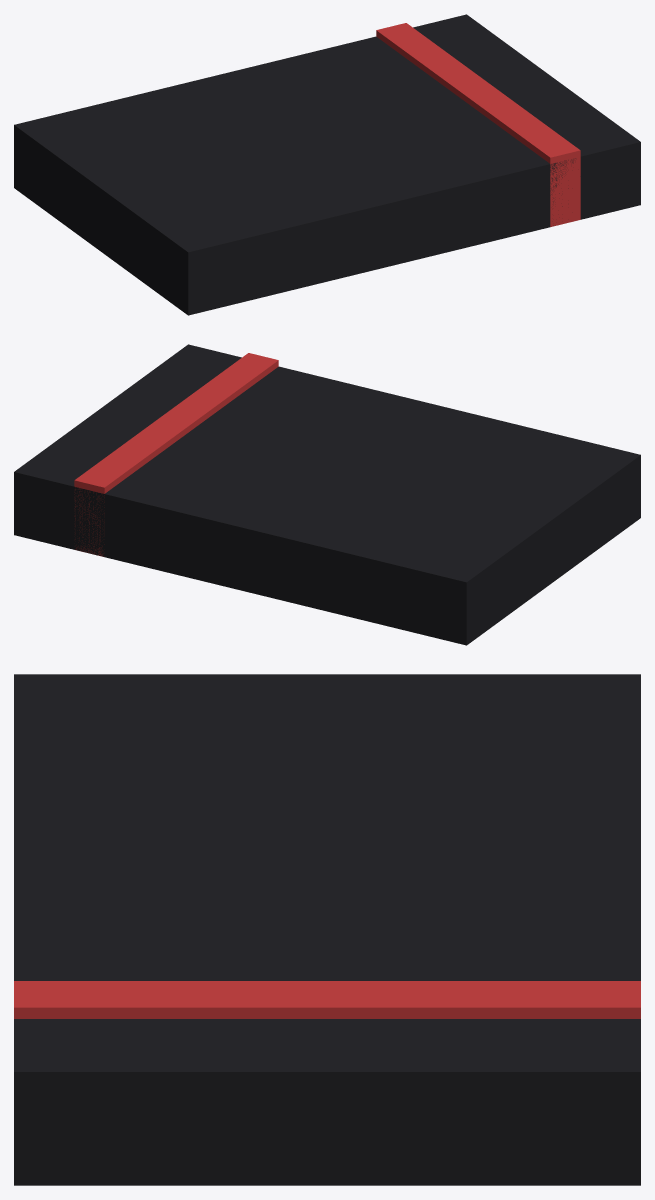
File: code_notebook.glb
3 renders of one model, top to bottom at view 1: azimuth 30°, elevation 25°; view 2: azimuth 150°, elevation 25°; view 3: azimuth 270°, elevation 25°, orthographic. The views are drawn at different scales.
Parts seen in each view (by area): view 1: cover_notebook_black, band_notebook_band; view 2: cover_notebook_black, band_notebook_band; view 3: cover_notebook_black, band_notebook_band.
Part boxes in pixels (x1,y1,x2,y2): cover_notebook_black: (14,14,640,315); band_notebook_band: (376,23,580,226); cover_notebook_black: (14,344,640,645); band_notebook_band: (74,353,278,556); cover_notebook_black: (14,674,640,1185); band_notebook_band: (14,981,640,1018).
Size of the model in its own units: 0.15 by 0.022 by 0.1.
